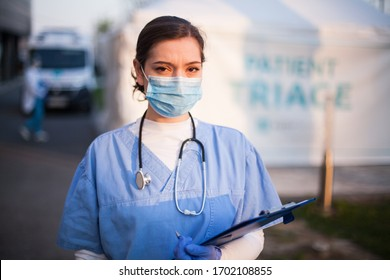doctor: (125, 13, 217, 234)
